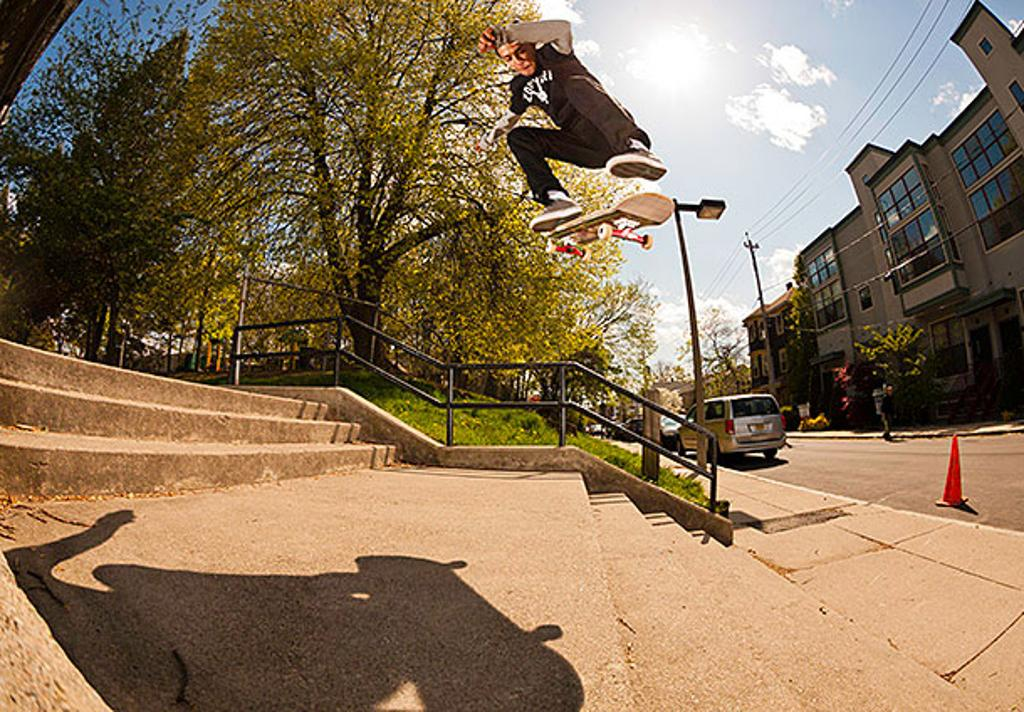face: (496, 42, 535, 76)
